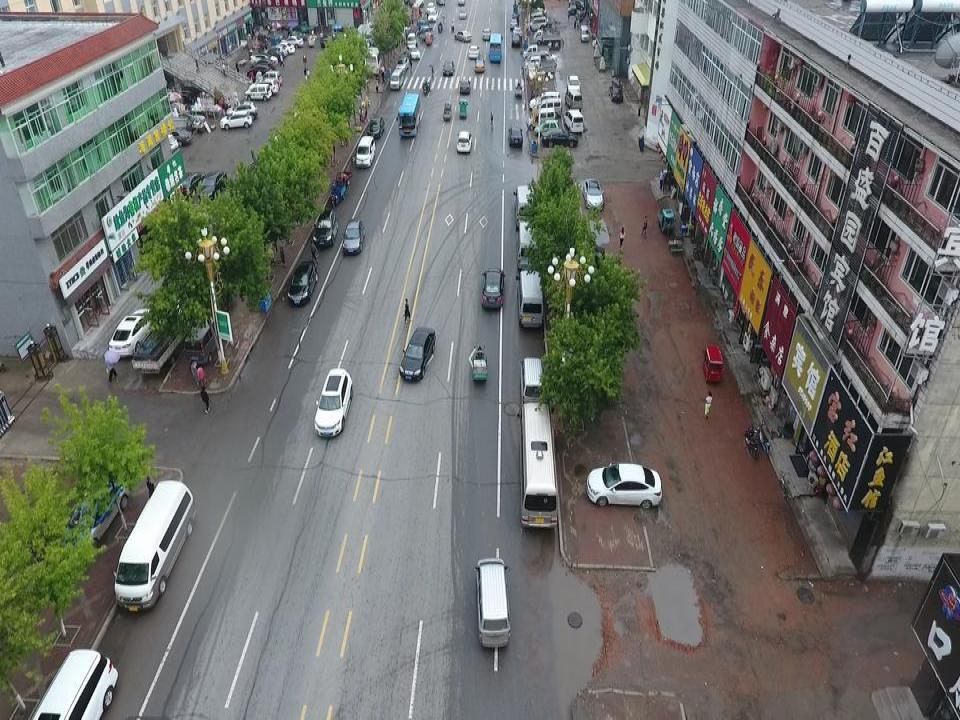bus: (520, 400, 561, 531), (395, 90, 421, 138), (488, 30, 504, 63)
car: (53, 440, 129, 580), (585, 461, 665, 511), (471, 555, 510, 652), (111, 285, 155, 359), (312, 368, 353, 439), (395, 324, 439, 385), (287, 258, 321, 310), (512, 183, 545, 228), (478, 264, 506, 311), (517, 220, 545, 267), (197, 167, 231, 205), (310, 207, 338, 253), (178, 159, 204, 201), (579, 177, 607, 215), (339, 215, 364, 257), (356, 134, 377, 170), (525, 107, 557, 129), (219, 110, 254, 130), (166, 119, 194, 144), (540, 131, 578, 149), (531, 98, 564, 118), (562, 110, 589, 134), (224, 100, 261, 117), (525, 89, 561, 105), (454, 128, 474, 156), (260, 69, 288, 88), (532, 119, 563, 136), (251, 77, 278, 96), (507, 124, 525, 152), (606, 80, 626, 105), (244, 64, 273, 81), (154, 132, 178, 152), (244, 84, 272, 101), (526, 48, 557, 63), (563, 71, 581, 93), (248, 52, 278, 65), (251, 49, 277, 64), (250, 57, 277, 71), (367, 116, 385, 137), (279, 34, 307, 47), (565, 91, 585, 109), (441, 57, 456, 78), (272, 42, 296, 54), (454, 28, 472, 43), (458, 77, 472, 95), (396, 53, 409, 72), (578, 24, 591, 43), (268, 44, 288, 56), (473, 57, 487, 74), (404, 43, 421, 57), (466, 42, 480, 58), (510, 33, 522, 48), (425, 1, 436, 15), (512, 26, 524, 38), (508, 18, 519, 30), (511, 12, 522, 23), (359, 108, 365, 128), (570, 1, 578, 16), (482, 28, 491, 41), (458, 7, 468, 18), (428, 11, 437, 21)
truck: (532, 27, 563, 45), (524, 44, 552, 59)
van: (112, 475, 196, 612), (130, 264, 198, 373), (31, 644, 120, 720), (184, 276, 231, 364), (515, 268, 548, 333), (518, 355, 548, 401), (523, 57, 556, 76), (523, 52, 555, 69), (390, 68, 405, 91), (528, 16, 550, 31), (526, 12, 543, 28), (407, 32, 420, 48)
